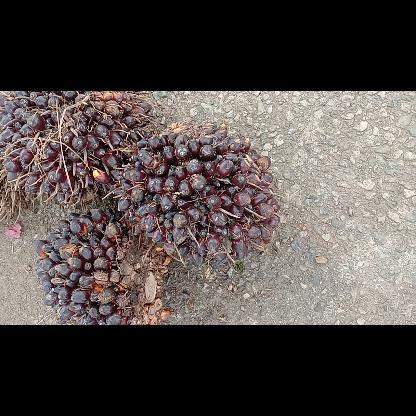TBS mentah: (112, 122, 278, 268), (1, 90, 151, 202), (34, 207, 170, 324)
